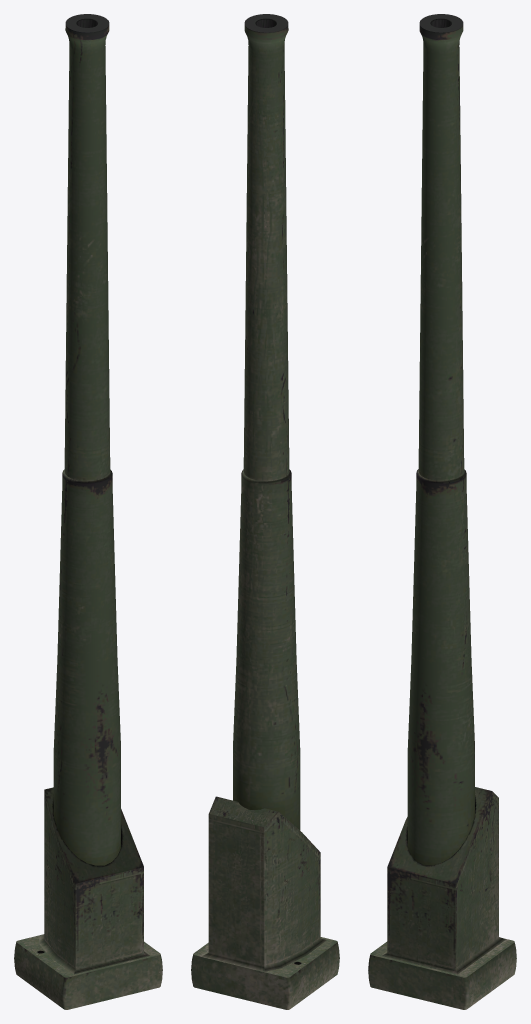
Rendered from Gun_02.glb.
The picture shows the model from 3 angles, left to right: view 1: azimuth 30°, elevation 25°; view 2: azimuth 150°, elevation 25°; view 3: azimuth 330°, elevation 25°; orthographic projection.
Parts seen in each view (by area): view 1: set_0_group_0; view 2: set_0_group_0; view 3: set_0_group_0.
Boxes of the visible parts, box(x1,y1,x2,y2) form: set_0_group_0: box(14, 14, 162, 1009); set_0_group_0: box(191, 14, 339, 1009); set_0_group_0: box(368, 14, 516, 1009).
Bounding box in the file's own units: 0.7825 × 7.09 × 0.6762.
1 material, 1 textured.
